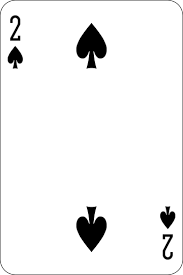two of spades: (2, 1, 181, 275)
